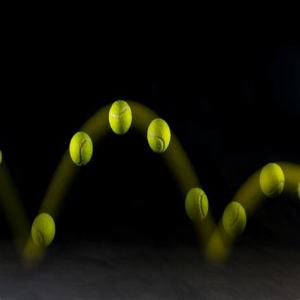Tennis: (68, 126, 96, 169), (221, 198, 249, 238), (259, 158, 284, 202), (29, 214, 57, 252), (108, 96, 132, 140), (147, 116, 171, 159), (184, 183, 209, 224)
